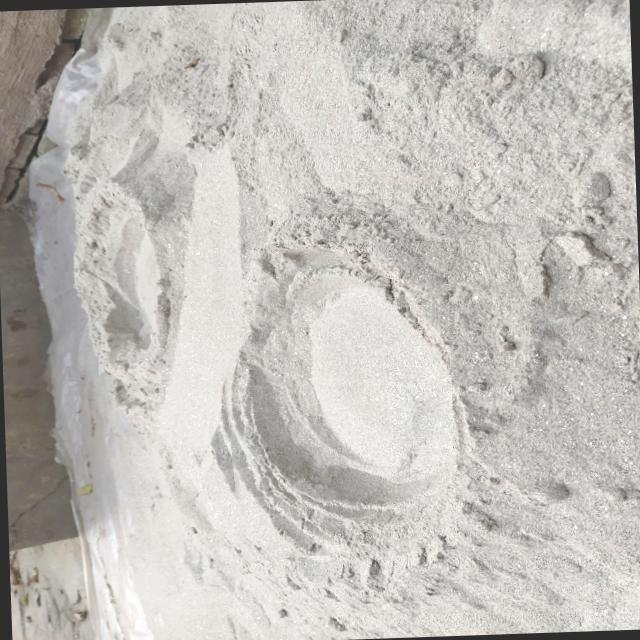C20: (225, 245, 453, 557), (73, 183, 160, 422)
